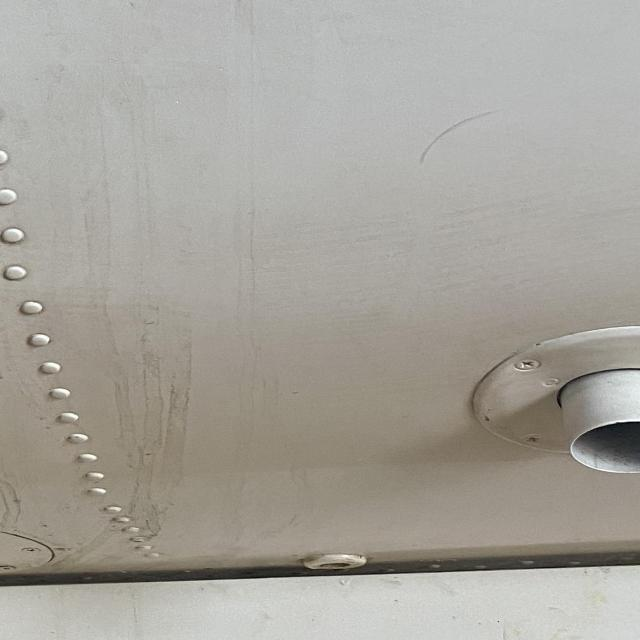Scratch: (420, 110, 498, 164)
